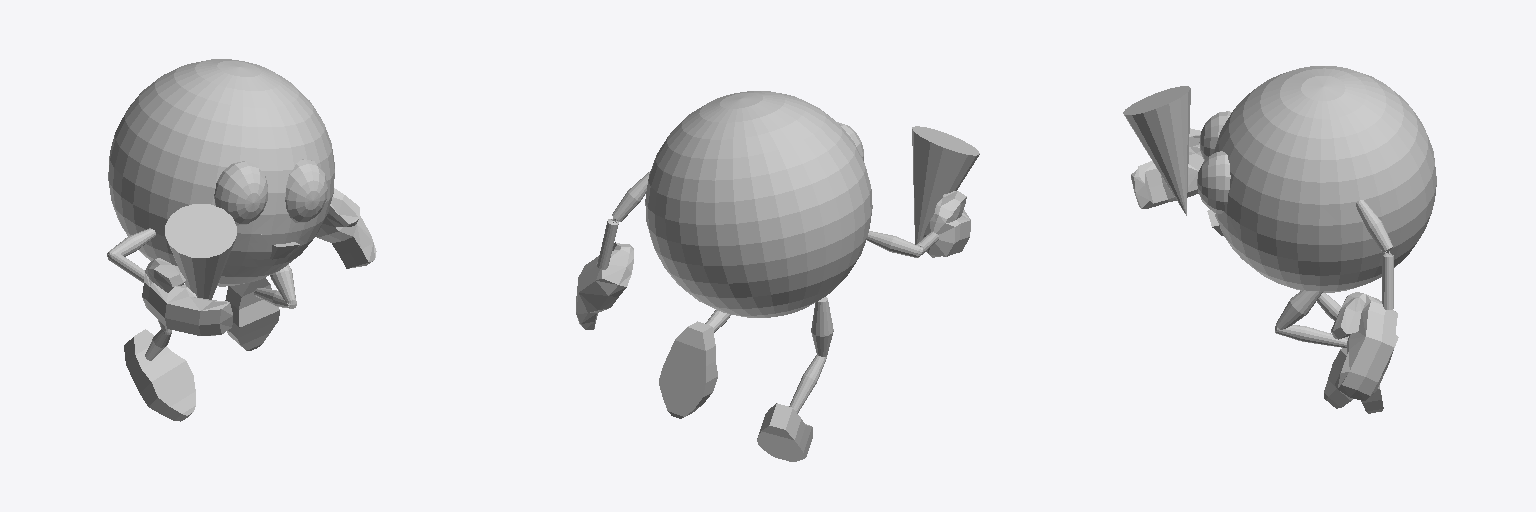
File: Rusko_ani_02_000033.obj
3 renders of one model, left to right at view 1: azimuth 30°, elevation 25°; view 2: azimuth 150°, elevation 25°; view 3: azimuth 270°, elevation 25°, orthographic.
Visible parts, largest first — view 1: Rusko_Sphere; view 2: Rusko_Sphere; view 3: Rusko_Sphere.
Boxes of the visible parts, x1,y1,x2,y2 form: Rusko_Sphere: [107, 59, 376, 421]; Rusko_Sphere: [576, 91, 979, 461]; Rusko_Sphere: [1123, 66, 1436, 413].
Bounding box in the file's own units: 6.14 × 6.73 × 5.52.